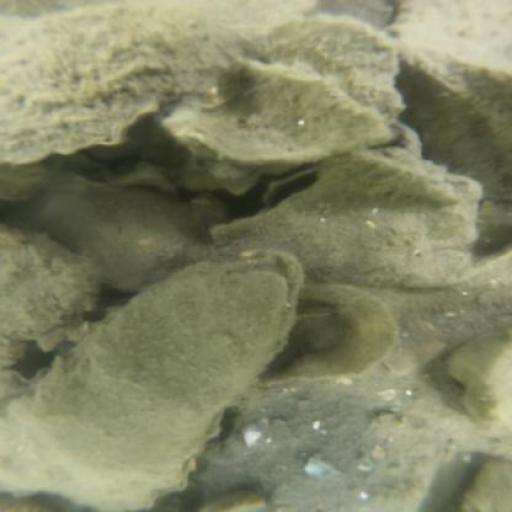Oyster-Closed: (1, 4, 248, 169), (215, 154, 483, 288), (201, 398, 444, 511), (30, 178, 202, 287), (251, 18, 396, 114), (3, 222, 100, 344), (334, 150, 464, 204), (459, 460, 510, 512)
Oyster-Open: (24, 252, 304, 492)
